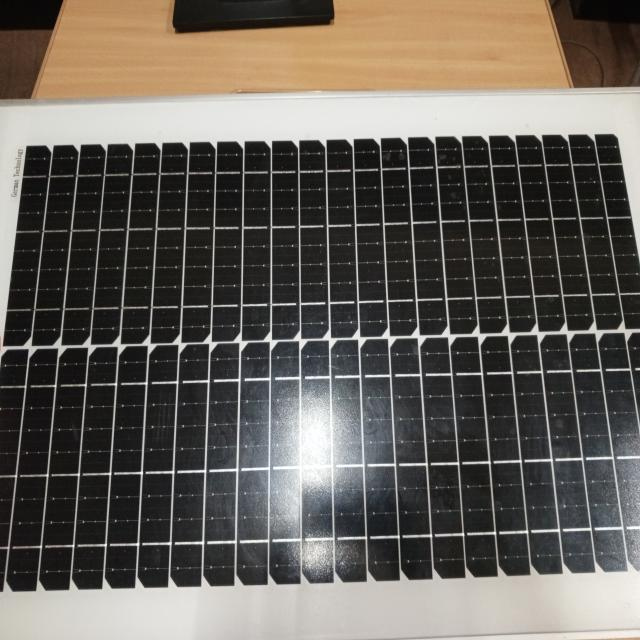Clean: (8, 132, 638, 604)
